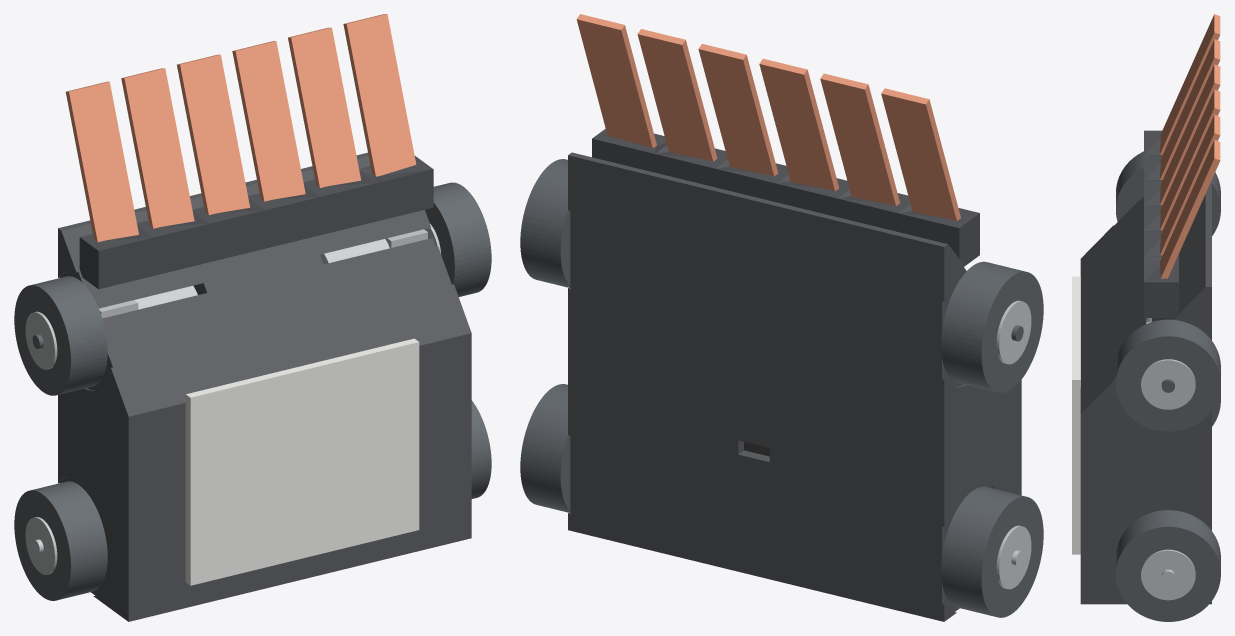
The model's file is pingu.glb.
The picture shows the model from 3 angles, left to right: view 1: azimuth 30°, elevation 25°; view 2: azimuth 150°, elevation 25°; view 3: azimuth 270°, elevation 25°; orthographic projection. The views are drawn at different scales.
Parts seen in each view (by area): view 1: chassis, lid, wheel_r1, wheel_r0, fork_5, fork_3, fork_1, fork_2, fork_0, fork_4, wheel_l1, dt_mount_fork_0 (+10 smaller); view 2: chassis, wheel_r1, wheel_r0, fork_5, fork_2, fork_3, fork_4, fork_1, fork_0, wheel_l0, wheel_l1, dt_mount_fork_0 (+7 smaller); view 3: chassis, wheel_l1, wheel_l0, lid, dt_hub_wheel_l0, dt_hub_wheel_l1, fork_5, dt_mount_fork_5, wheel_r1, fork_0, fork_2, fork_3 (+7 smaller).
Part boxes in pixels (x1,y1,x2,y2): chassis: (58,152,471,621); lid: (185,338,419,585); wheel_r1: (14,276,107,395); wheel_r0: (14,481,107,600); fork_5: (343,14,416,176); fork_3: (232,41,305,201); fork_1: (121,68,194,228); fork_2: (177,54,249,214); fork_0: (65,81,138,242); fork_4: (288,27,361,187); wheel_l1: (425,182,491,296); dt_mount_fork_0: (79,225,153,289); chassis: (568,152,1021,621); wheel_r1: (941,261,1043,392); wheel_r0: (941,486,1043,617); fork_5: (576,14,656,147); fork_2: (759,58,838,191); fork_3: (698,44,778,176); fork_4: (637,29,717,161); fork_1: (820,73,899,205); fork_0: (881,88,960,220); wheel_l0: (520,384,570,512); wheel_l1: (520,159,570,287); dt_mount_fork_0: (898,204,979,266); chassis: (1080,180,1211,604); wheel_l1: (1116,319,1220,431); wheel_l0: (1116,510,1220,621); lid: (1072,276,1080,554); dt_hub_wheel_l0: (1141,549,1195,600); dt_hub_wheel_l1: (1141,359,1195,409); fork_5: (1160,140,1220,278); dt_mount_fork_5: (1144,256,1178,317); wheel_r1: (1116,151,1220,235); fork_0: (1160,14,1220,154); fork_2: (1160,64,1220,205); fork_3: (1160,89,1220,230).
Size of the model in its own units: 106 by 111 by 34.
